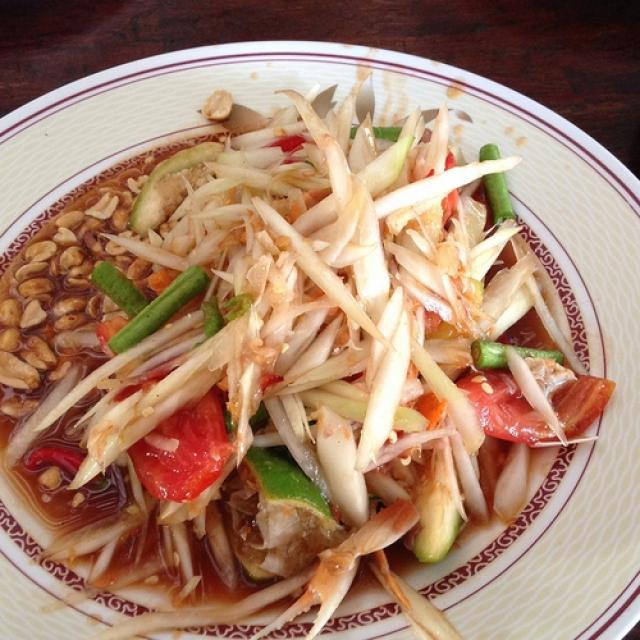蔬菜料理: (15, 64, 608, 608)
